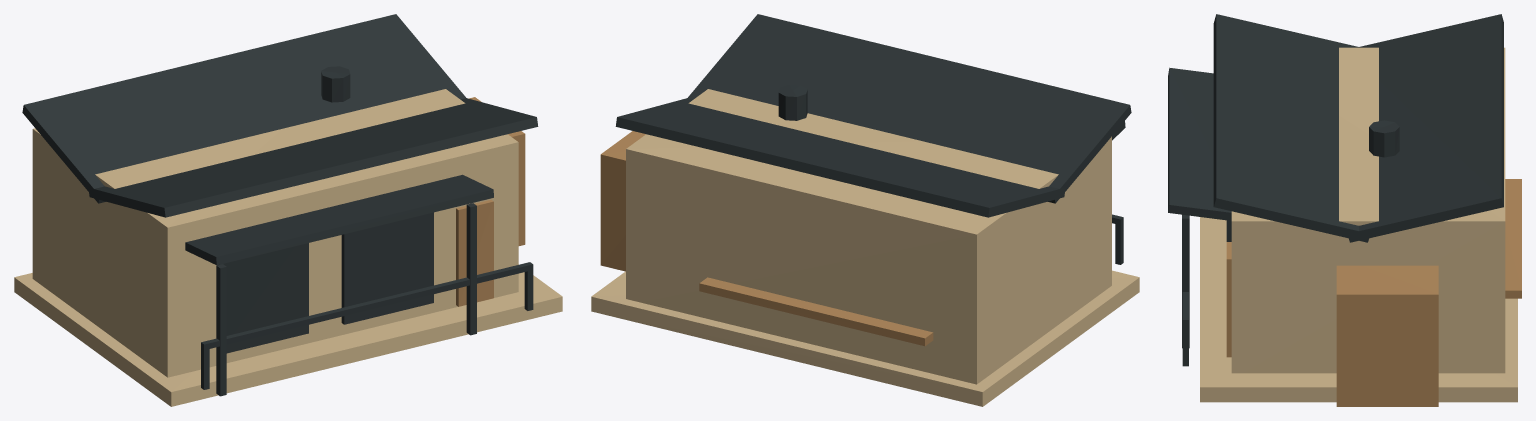
The model's file is Fish-Processing-Shed.glb.
3 views of the same model, side by side, from view 1: azimuth 30°, elevation 25°; view 2: azimuth 150°, elevation 25°; view 3: azimuth 270°, elevation 25° (orthographic).
Parts seen in each view (by area): view 1: fish-processing-shed-static-fish-processing-shed-charcoal-ro, fish-processing-shed-static-fish-processing-shed-cream-wall-, fish-processing-shed-static-fish-processing-shed-pale-stone-, fish-processing-shed-static-fish-processing-shed-muted-teal-; view 2: fish-processing-shed-static-fish-processing-shed-cream-wall-, fish-processing-shed-static-fish-processing-shed-charcoal-ro, fish-processing-shed-static-fish-processing-shed-pale-stone-, fish-processing-shed-static-fish-processing-shed-warm-timber, fish-processing-shed-static-fish-processing-shed-muted-teal-; view 3: fish-processing-shed-static-fish-processing-shed-charcoal-ro, fish-processing-shed-static-fish-processing-shed-cream-wall-, fish-processing-shed-static-fish-processing-shed-muted-teal-, fish-processing-shed-static-fish-processing-shed-pale-stone-, fish-processing-shed-static-fish-processing-shed-warm-timber.
Part boxes in pixels (x1,y1,x2,y2): fish-processing-shed-static-fish-processing-shed-charcoal-ro: (22,14,538,396); fish-processing-shed-static-fish-processing-shed-cream-wall-: (32,89,518,377); fish-processing-shed-static-fish-processing-shed-pale-stone-: (14,272,562,406); fish-processing-shed-static-fish-processing-shed-muted-teal-: (456,97,525,306); fish-processing-shed-static-fish-processing-shed-cream-wall-: (626,89,1111,384); fish-processing-shed-static-fish-processing-shed-charcoal-ro: (615,14,1131,264); fish-processing-shed-static-fish-processing-shed-pale-stone-: (591,270,1139,406); fish-processing-shed-static-fish-processing-shed-warm-timber: (699,277,933,346); fish-processing-shed-static-fish-processing-shed-muted-teal-: (600,131,645,271); fish-processing-shed-static-fish-processing-shed-charcoal-ro: (1168,14,1503,366); fish-processing-shed-static-fish-processing-shed-cream-wall-: (1231,47,1505,373); fish-processing-shed-static-fish-processing-shed-muted-teal-: (1226,242,1438,406); fish-processing-shed-static-fish-processing-shed-pale-stone-: (1200,217,1517,402); fish-processing-shed-static-fish-processing-shed-warm-timber: (1505,179,1521,298).
Bounding box in the file's own units: 7.75 × 3.61 × 5.56.
